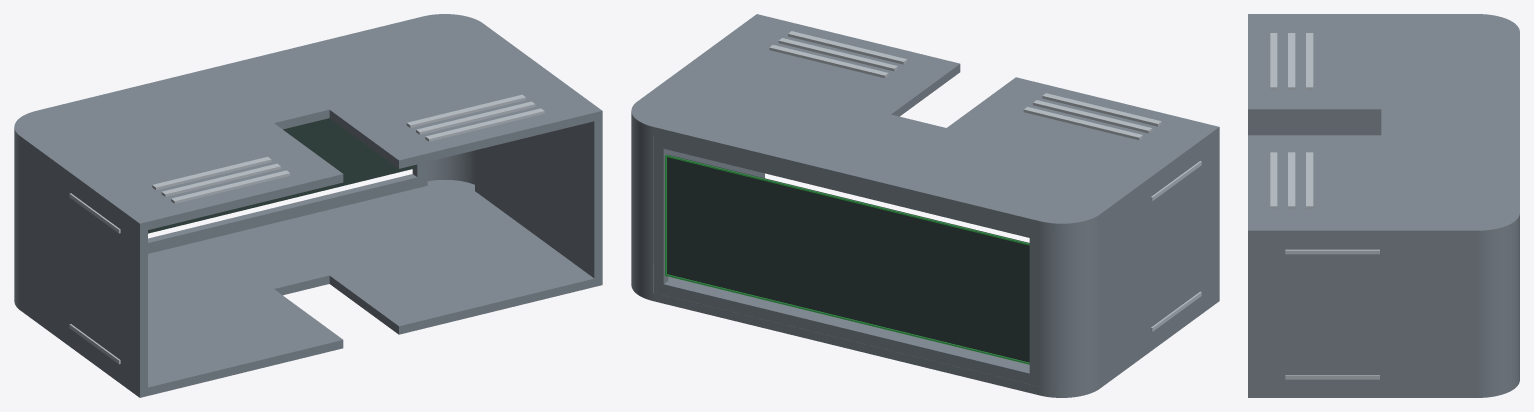
The model's file is shuttle.glb.
The picture shows the model from 3 angles, left to right: view 1: azimuth 30°, elevation 25°; view 2: azimuth 150°, elevation 25°; view 3: azimuth 270°, elevation 25°; orthographic projection. The views are drawn at different scales.
Parts seen in each view (by area): view 1: Flat upper deck, Flat lower deck, Flat side return (×2), Front frame horizontal (×2), Straight deck rib (×6), Recessed front panel, Quarter-circle front corner (×2); view 2: Flat upper deck, Recessed front panel, Flat side return (×2), Quarter-circle front corner (×2), Front frame horizontal (×2), Flat lower deck, Straight deck rib (×6), Front frame upright (×2), Green inset horizontal (×2); view 3: Flat upper deck, Flat side return (×2), Quarter-circle front corner, Straight deck rib (×6), Flat lower deck, Front frame horizontal, Straight side band (×2).
Boxes of the visible parts, left/top/right/bottom form: Flat upper deck: left=14, top=14, right=602, bottom=231; Flat lower deck: left=14, top=179, right=602, bottom=397; Flat side return (×2): left=20, top=23, right=602, bottom=397; Front frame horizontal (×2): left=37, top=17, right=427, bottom=253; Straight deck rib (×6): left=152, top=94, right=544, bottom=203; Recessed front panel: left=148, top=118, right=416, bottom=233; Quarter-circle front corner (×2): left=14, top=136, right=474, bottom=301; Flat upper deck: left=631, top=14, right=1219, bottom=232; Recessed front panel: left=667, top=154, right=1029, bottom=362; Flat side return (×2): left=637, top=15, right=1219, bottom=386; Quarter-circle front corner (×2): left=631, top=120, right=1099, bottom=389; Front frame horizontal (×2): left=653, top=123, right=1042, bottom=386; Flat lower deck: left=631, top=263, right=1183, bottom=397; Straight deck rib (×6): left=769, top=31, right=1161, bottom=140; Front frame upright (×2): left=653, top=136, right=1043, bottom=386; Green inset horizontal (×2): left=665, top=155, right=1029, bottom=364; Flat upper deck: left=1248, top=14, right=1519, bottom=238; Flat side return (×2): left=1248, top=14, right=1477, bottom=397; Quarter-circle front corner: left=1477, top=222, right=1519, bottom=389; Straight deck rib (×6): left=1270, top=33, right=1313, bottom=208; Flat lower deck: left=1248, top=373, right=1519, bottom=397; Front frame horizontal: left=1510, top=32, right=1519, bottom=212; Straight side band (×2): left=1285, top=249, right=1379, bottom=379.
Size of the model in its own units: 20.14 by 7.42 by 10.6.
